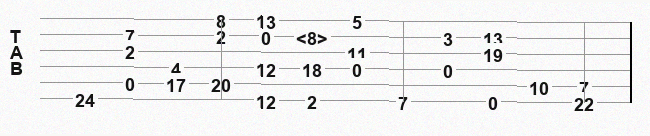0: (125, 76, 139, 93), (261, 28, 275, 45), (352, 60, 366, 77), (443, 60, 457, 77), (488, 92, 502, 109)
10: (529, 76, 553, 93)
11: (347, 44, 371, 61)
12: (256, 60, 280, 77), (256, 92, 280, 109)
13: (256, 12, 280, 29), (483, 28, 507, 45)
17: (166, 76, 190, 93)
18: (302, 60, 326, 77)
19: (483, 44, 507, 61)
2: (125, 44, 139, 61), (216, 28, 230, 45), (307, 92, 321, 109)
20: (211, 76, 235, 93)
22: (574, 92, 598, 109)
24: (75, 92, 99, 109)
3: (443, 28, 457, 45)
4: (171, 60, 185, 77)
5: (352, 12, 366, 29)
7: (125, 28, 139, 45), (398, 92, 412, 109), (579, 76, 593, 93)
8: (216, 12, 230, 29)
harmonic: (296, 28, 332, 45)
